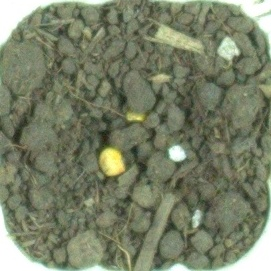pepper seed: (32, 56, 162, 234)
